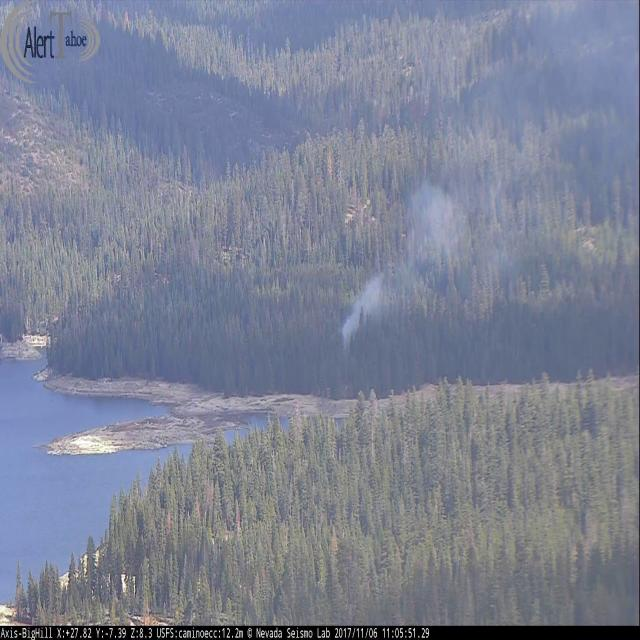smoke: (340, 3, 640, 350)
